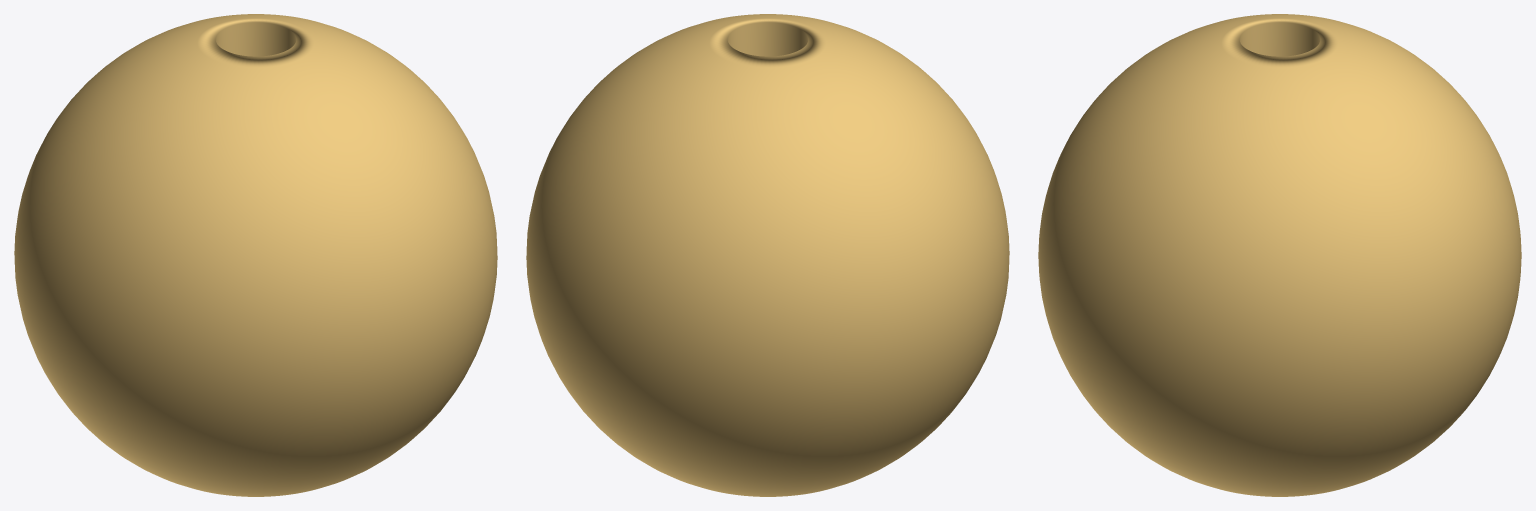
File: spacer-01-gold-6mm.glb
3 renders of one model, left to right at view 1: azimuth 30°, elevation 25°; view 2: azimuth 150°, elevation 25°; view 3: azimuth 270°, elevation 25°, orthographic.
Visible parts, largest first — view 1: Spacer with through bore; view 2: Spacer with through bore; view 3: Spacer with through bore.
Boxes of the visible parts, <box> form: Spacer with through bore: <box>14,14,497,496</box>; Spacer with through bore: <box>526,14,1009,496</box>; Spacer with through bore: <box>1038,14,1521,496</box>.
Size of the model in its own units: 0.006 by 0.00592 by 0.006.
